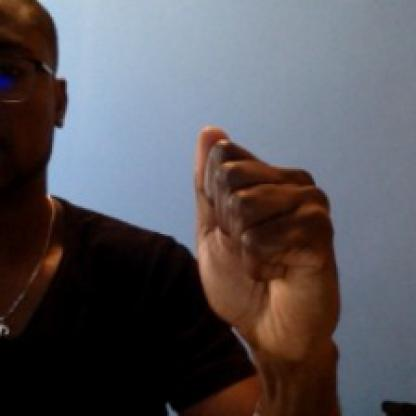BACKWARD: (181, 115, 362, 392)
